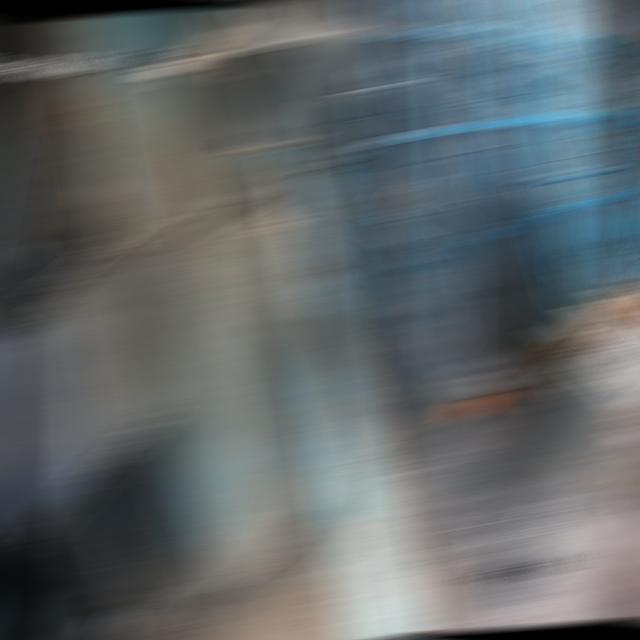swing_chute: (227, 123, 358, 352)
